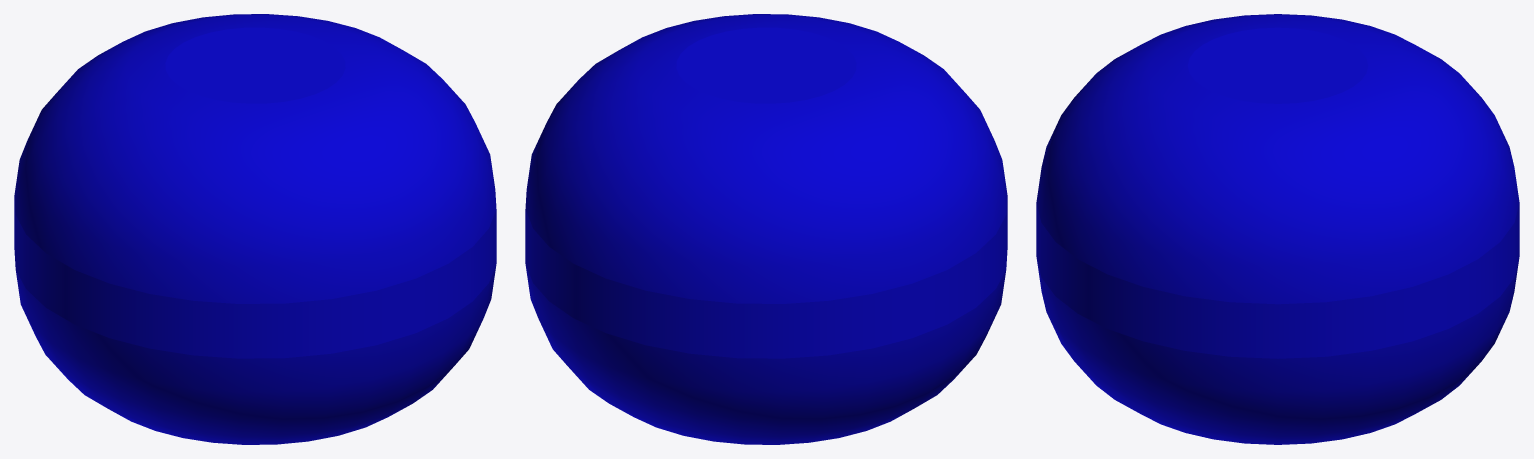
File: Air.fbx
3 renders of one model, left to right at view 1: azimuth 30°, elevation 25°; view 2: azimuth 150°, elevation 25°; view 3: azimuth 270°, elevation 25°, orthographic.
Parts seen in each view (by area): view 1: Text; view 2: Text; view 3: Text.
Boxes of the visible parts, left/top/right/bottom form: Text: left=14, top=14, right=496, bottom=444; Text: left=525, top=14, right=1007, bottom=444; Text: left=1036, top=14, right=1519, bottom=444.
Size of the model in its own units: 321 by 240 by 321.
